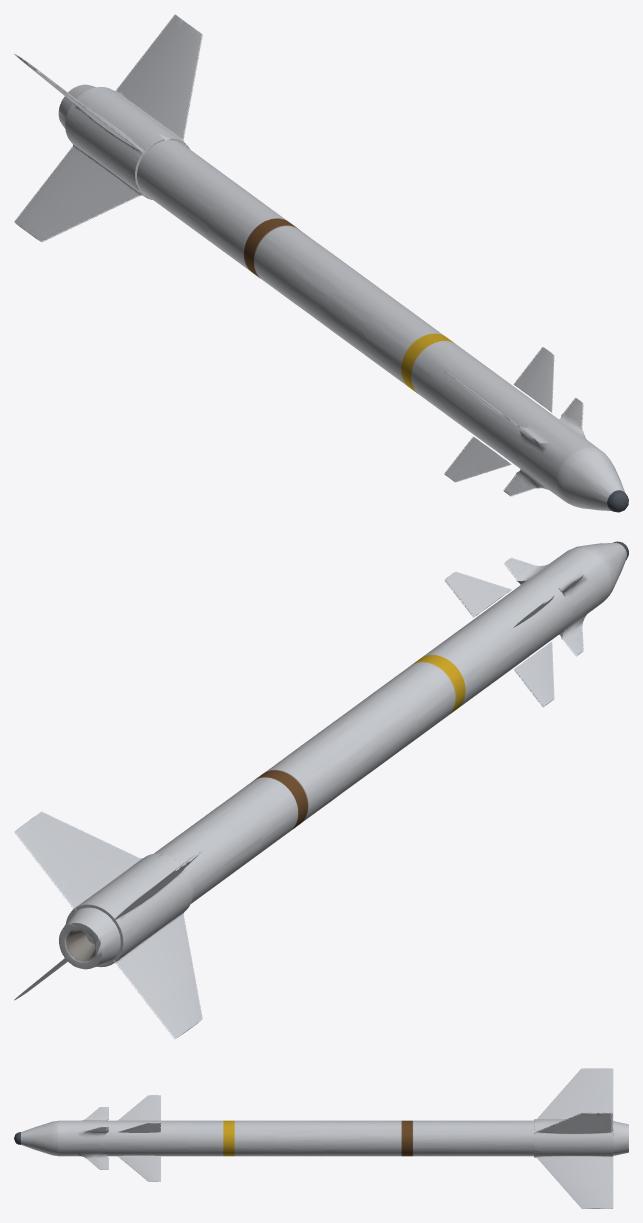
The model's file is magic2.glb.
The picture shows the model from 3 angles, top to bottom: view 1: azimuth 30°, elevation 25°; view 2: azimuth 150°, elevation 25°; view 3: azimuth 270°, elevation 25°; orthographic projection. The views are drawn at different scales.
Parts seen in each view (by area): view 1: airframe, fsim:freeroll:0.002, fsim:elevator+rudder:1@-20,20 (×2); view 2: airframe, fsim:freeroll:0.002, fsim:elevator+rudder:1@-20,20 (×2); view 3: airframe, fsim:freeroll:0.002, fsim:elevator+rudder:-1@-20,20 (×2), fsim:elevator+rudder:1@-20,20.
Part boxes in pixels (x1,y1,x2,y2): airframe: (58, 84, 628, 512); fsim:freeroll:0.002: (14, 14, 202, 242); fsim:elevator+rudder:1@-20,20 (×2): (444, 347, 554, 482); airframe: (59, 541, 628, 969); fsim:freeroll:0.002: (14, 811, 202, 1039); fsim:elevator+rudder:1@-20,20 (×2): (444, 571, 554, 707); airframe: (14, 1107, 628, 1169); fsim:freeroll:0.002: (534, 1068, 613, 1208); fsim:elevator+rudder:-1@-20,20 (×2): (117, 1095, 160, 1181); fsim:elevator+rudder:1@-20,20: (117, 1122, 160, 1132).
Size of the model in its own units: 0.4701 by 0.4707 by 2.72.
Materials: 4 (1 with a texture image).
